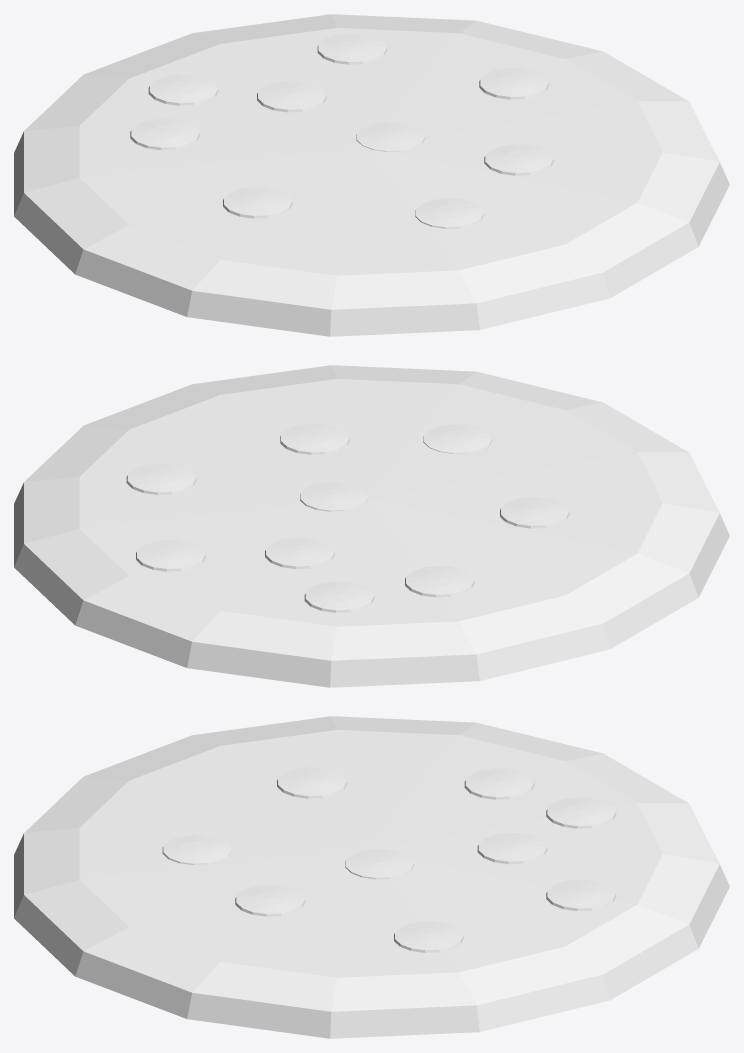
The model's file is Cookie.fbx.
The picture shows the model from 3 angles, top to bottom: view 1: azimuth 30°, elevation 25°; view 2: azimuth 150°, elevation 25°; view 3: azimuth 270°, elevation 25°; orthographic projection.
Visible parts, largest first — view 1: Cookie; view 2: Cookie; view 3: Cookie.
Boxes of the visible parts, bbox=[...] form: Cookie: bbox=[14, 14, 729, 336]; Cookie: bbox=[14, 365, 729, 687]; Cookie: bbox=[14, 716, 729, 1038].
Bounding box in the file's own units: 199 × 11.85 × 198.
